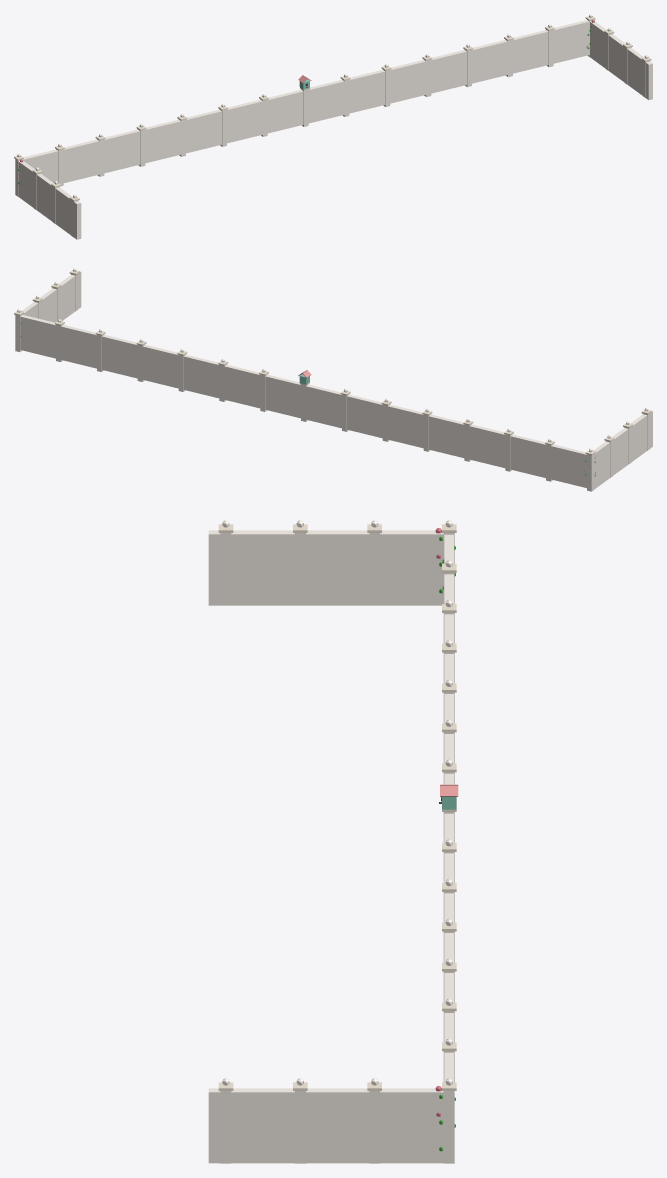
The model's file is CatCafe_Plot_YardFence_52x40.glb.
3 views of the same model, one above another, from view 1: azimuth 30°, elevation 25°; view 2: azimuth 150°, elevation 25°; view 3: azimuth 270°, elevation 25° (orthographic). The views are drawn at different scales.
Parts seen in each view (by area): view 1: CatCafe_Plot_YardFence_52x40_Barrier, CatCafe_Plot_YardFence_52x40; view 2: CatCafe_Plot_YardFence_52x40_Barrier, CatCafe_Plot_YardFence_52x40; view 3: CatCafe_Plot_YardFence_52x40_Barrier, CatCafe_Plot_YardFence_52x40.
Part boxes in pixels (bbox=[...]): CatCafe_Plot_YardFence_52x40_Barrier: bbox=[18, 20, 652, 239]; CatCafe_Plot_YardFence_52x40: bbox=[14, 14, 651, 237]; CatCafe_Plot_YardFence_52x40_Barrier: bbox=[20, 271, 652, 488]; CatCafe_Plot_YardFence_52x40: bbox=[14, 268, 651, 491]; CatCafe_Plot_YardFence_52x40_Barrier: bbox=[208, 530, 453, 1163]; CatCafe_Plot_YardFence_52x40: bbox=[218, 520, 458, 1163].
Bounding box in the file's own units: 54.4 × 4.38 × 10.17.
Materials: 1 (1 with a texture image).
